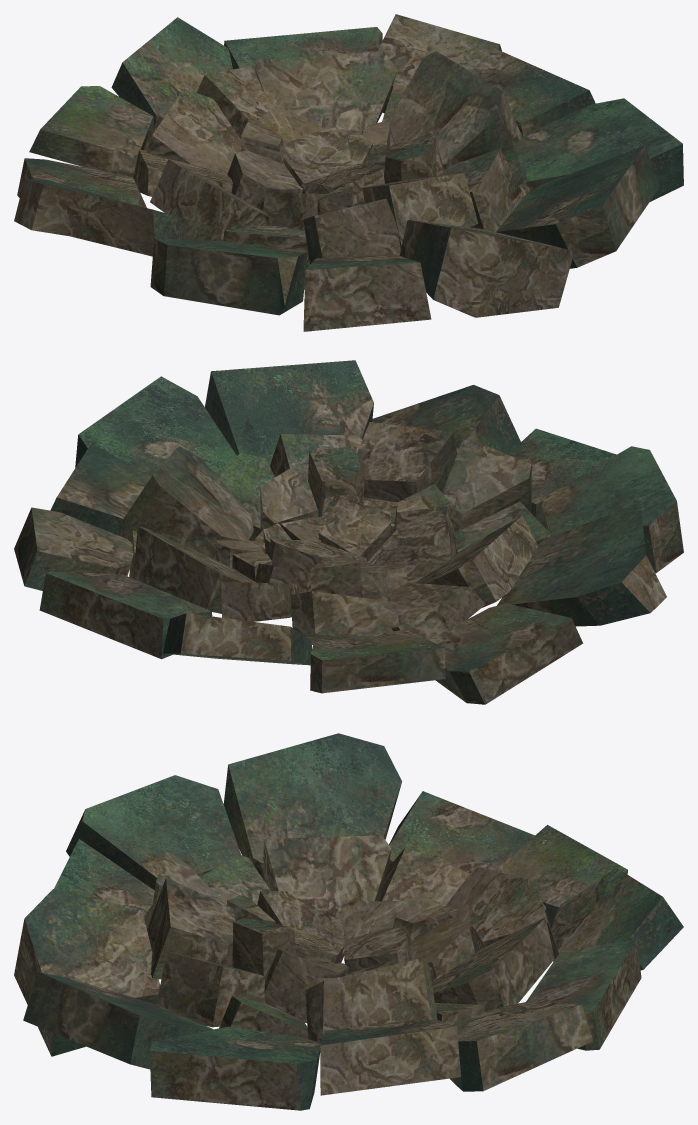
The model's file is BrokenGround1.fbx.
3 renders of one model, top to bottom at view 1: azimuth 30°, elevation 25°; view 2: azimuth 150°, elevation 25°; view 3: azimuth 270°, elevation 25°, orthographic. The views are drawn at different scales.
Visible parts, largest first — view 1: SM_d_e_P0012_V00_C00_SplRgk_GroundRock_01; view 2: SM_d_e_P0012_V00_C00_SplRgk_GroundRock_01; view 3: SM_d_e_P0012_V00_C00_SplRgk_GroundRock_01.
Boxes of the visible parts, box(x1,y1,x2,y2) form: SM_d_e_P0012_V00_C00_SplRgk_GroundRock_01: box(14, 14, 683, 331); SM_d_e_P0012_V00_C00_SplRgk_GroundRock_01: box(14, 360, 683, 704); SM_d_e_P0012_V00_C00_SplRgk_GroundRock_01: box(14, 733, 683, 1110).
Size of the model in its own units: 102 by 20.28 by 95.76.
